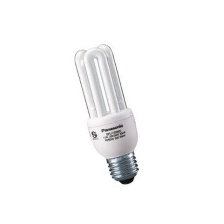light_bulb: (71, 41, 139, 187)
